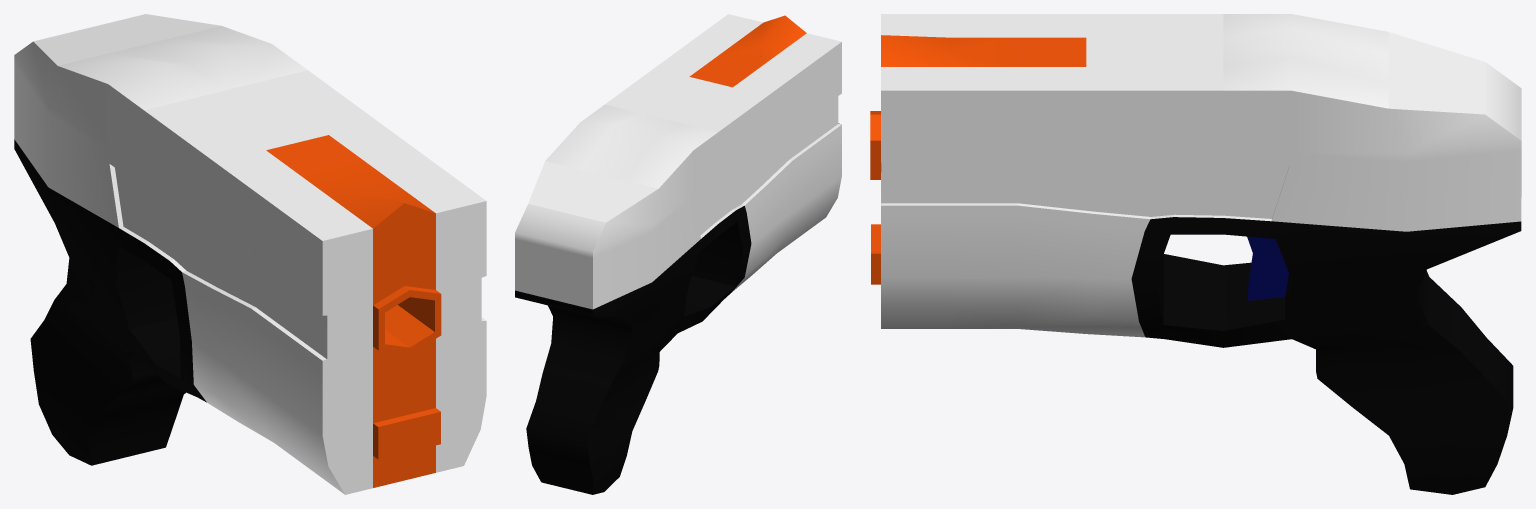
The model's file is Pistola.FBX.
The picture shows the model from 3 angles, left to right: view 1: azimuth 30°, elevation 25°; view 2: azimuth 150°, elevation 25°; view 3: azimuth 270°, elevation 25°; orthographic projection. The views are drawn at different scales.
Parts seen in each view (by area): view 1: Carcasa, Mango, Cañon; view 2: Carcasa, Mango, Cañon; view 3: Carcasa, Mango, Cañon, Gatillo.
Part boxes in pixels (left/top/right/bottom): Carcasa: left=14, top=14, right=486, bottom=494; Mango: left=14, top=139, right=206, bottom=465; Cañon: left=266, top=135, right=441, bottom=487; Carcasa: left=515, top=14, right=841, bottom=309; Mango: left=515, top=206, right=751, bottom=494; Cañon: left=689, top=15, right=806, bottom=87; Carcasa: left=881, top=14, right=1521, bottom=337; Mango: left=1131, top=217, right=1521, bottom=494; Cañon: left=870, top=35, right=1086, bottom=284; Gatillo: left=1247, top=236, right=1288, bottom=300.
Size of the model in its own units: 4.41 by 11.85 by 15.81.
